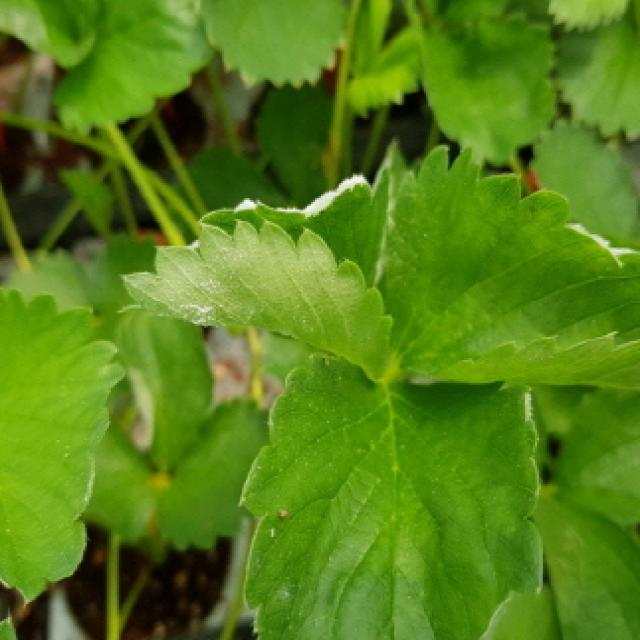Powdery Mildew Leaf: (239, 351, 545, 640), (375, 146, 640, 388), (118, 163, 396, 382), (0, 285, 128, 611)
